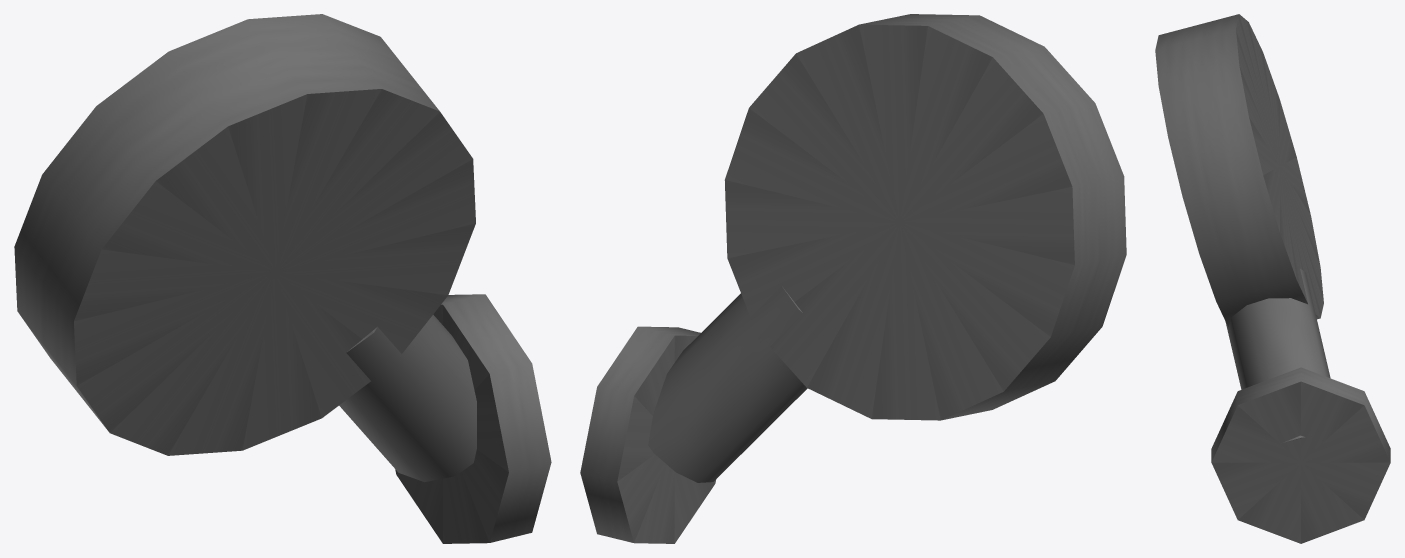
File: mastarmcurve_5x1_c1_east.obj
The picture shows the model from 3 angles, left to right: view 1: azimuth 30°, elevation 25°; view 2: azimuth 150°, elevation 25°; view 3: azimuth 270°, elevation 25°; orthographic projection. The views are drawn at different scales.
Parts seen in each view (by area): view 1: mastarm_5x1_c1_east; view 2: mastarm_5x1_c1_east; view 3: mastarm_5x1_c1_east.
Part boxes in pixels (box(x1,y1,x2,y2)): mastarm_5x1_c1_east: box(14, 14, 551, 543); mastarm_5x1_c1_east: box(580, 14, 1126, 543); mastarm_5x1_c1_east: box(1155, 14, 1390, 543).
Size of the model in its own units: 0.8544 by 1.03 by 0.5254.
